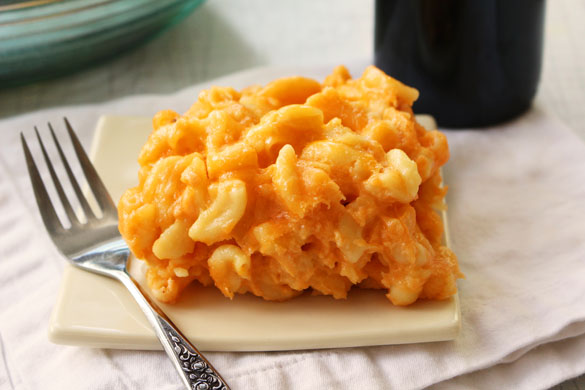macncheese: (117, 68, 461, 313)
